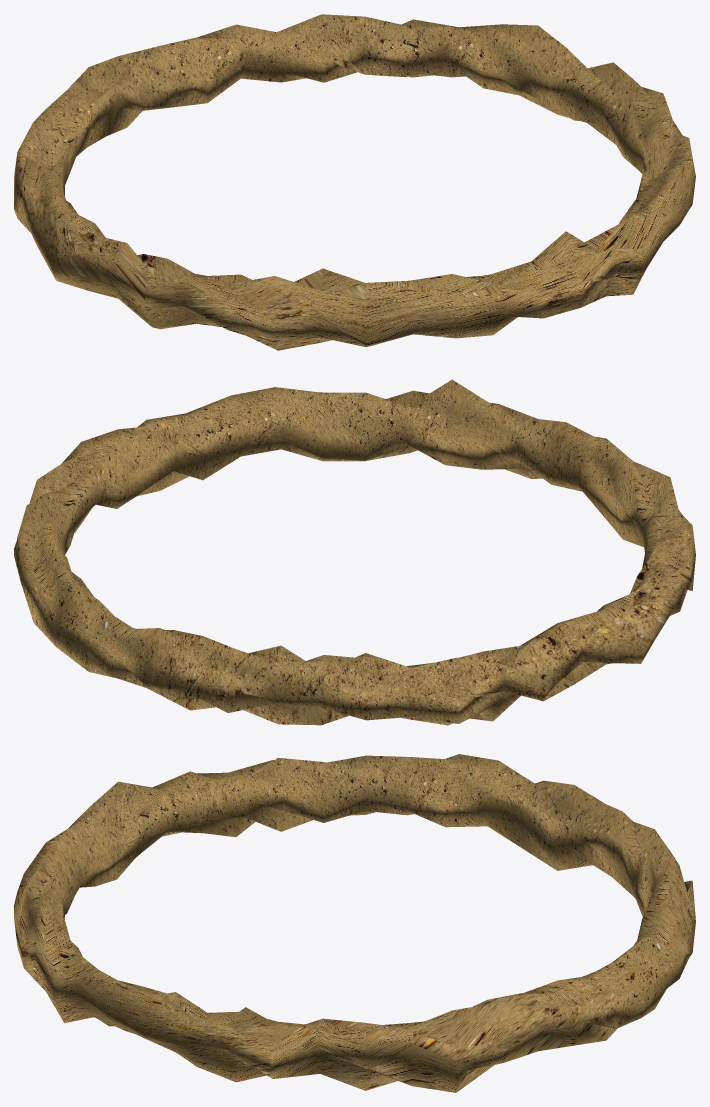
File: mountain.obj
3 renders of one model, top to bottom at view 1: azimuth 30°, elevation 25°; view 2: azimuth 150°, elevation 25°; view 3: azimuth 270°, elevation 25°, orthographic.
Visible parts, largest first — view 1: Torus001; view 2: Torus001; view 3: Torus001.
Part boxes in pixels (x1,y1,x2,y2): Torus001: (14, 14, 695, 350); Torus001: (14, 379, 695, 725); Torus001: (14, 754, 695, 1092).
Bounding box in the file's own units: 10814 × 1700 × 10807.
